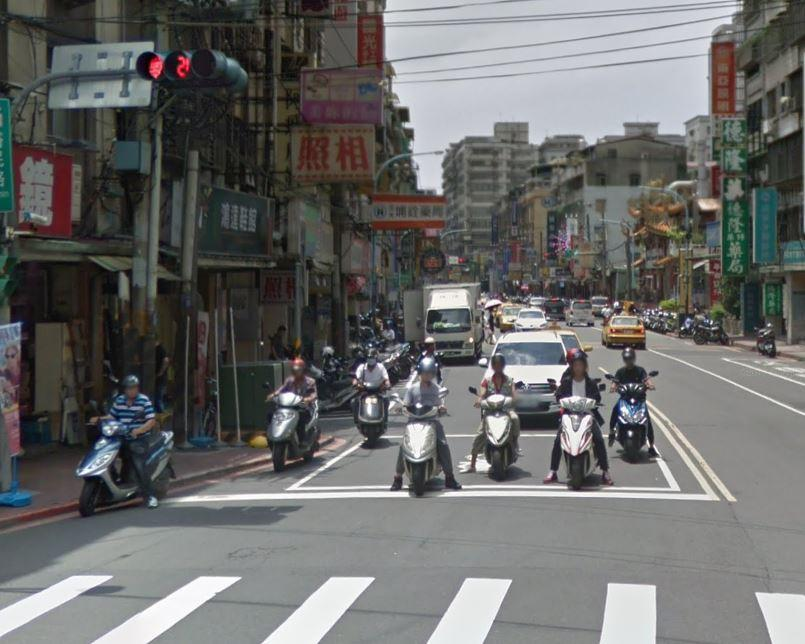car: (481, 327, 583, 409), (606, 304, 653, 352)
motorcycle: (70, 397, 177, 517), (547, 376, 607, 489), (389, 388, 451, 495), (610, 334, 663, 456), (464, 381, 529, 474), (263, 380, 321, 471), (348, 338, 396, 443)
red_traffic_light: (133, 47, 249, 91)
truck: (420, 273, 492, 364)
